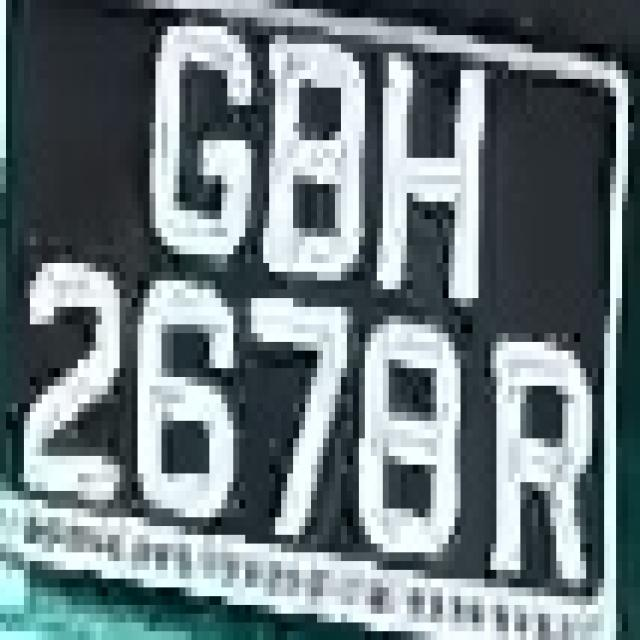2: (12, 228, 126, 552)
6: (132, 263, 239, 535)
7: (233, 263, 371, 561)
8: (341, 316, 466, 596)
B: (251, 17, 371, 307)
G: (132, 9, 257, 298)
H: (371, 35, 496, 324)
R: (467, 272, 598, 578)
